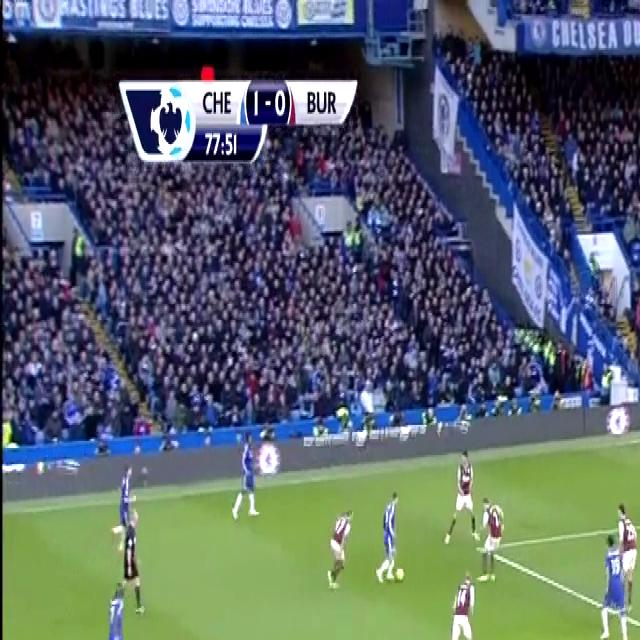ball: (391, 563, 410, 587)
referee: (117, 505, 149, 622)
soccer-player: (596, 526, 634, 640), (440, 442, 478, 552), (432, 562, 482, 640), (375, 485, 411, 593), (322, 496, 358, 596), (226, 431, 262, 531), (612, 491, 640, 601), (95, 579, 140, 640), (481, 492, 510, 586)
